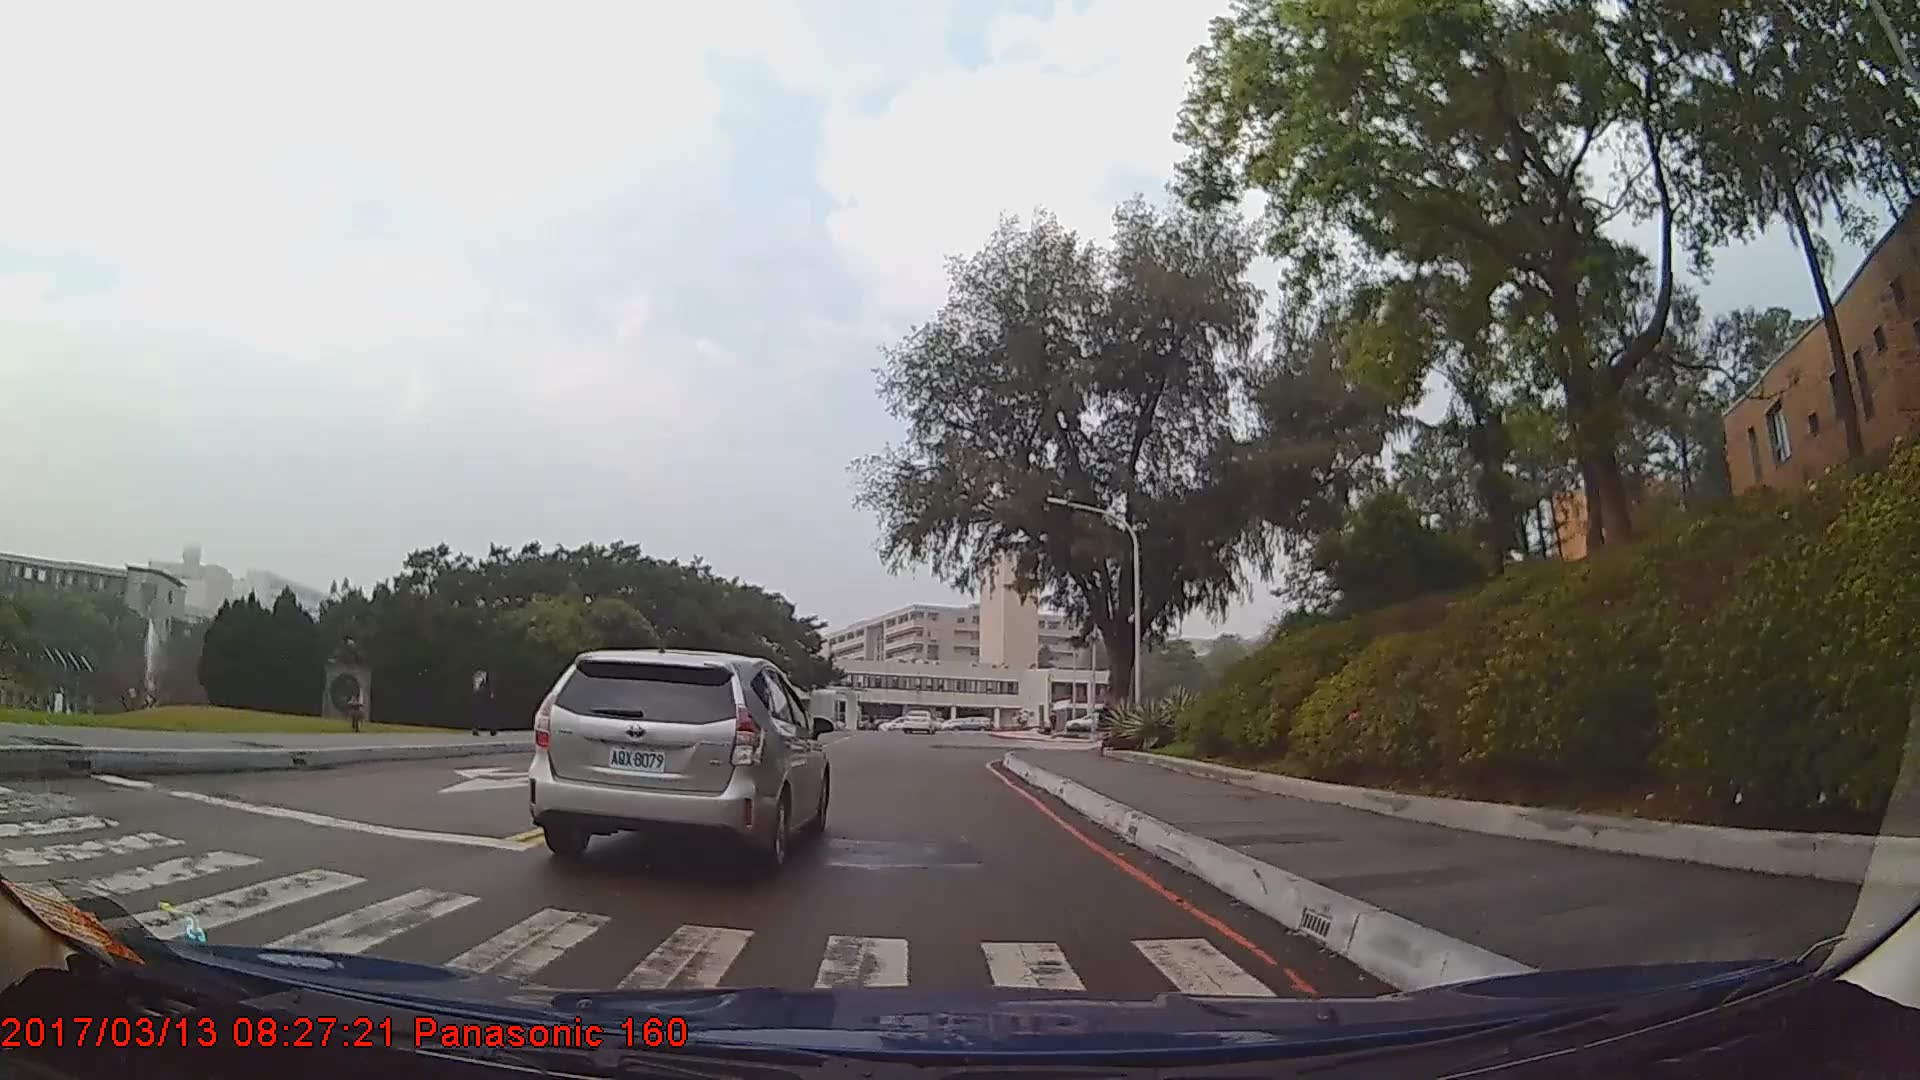pedestrian: (466, 656, 505, 738)
vehicle: (528, 644, 832, 873), (900, 706, 935, 733)
